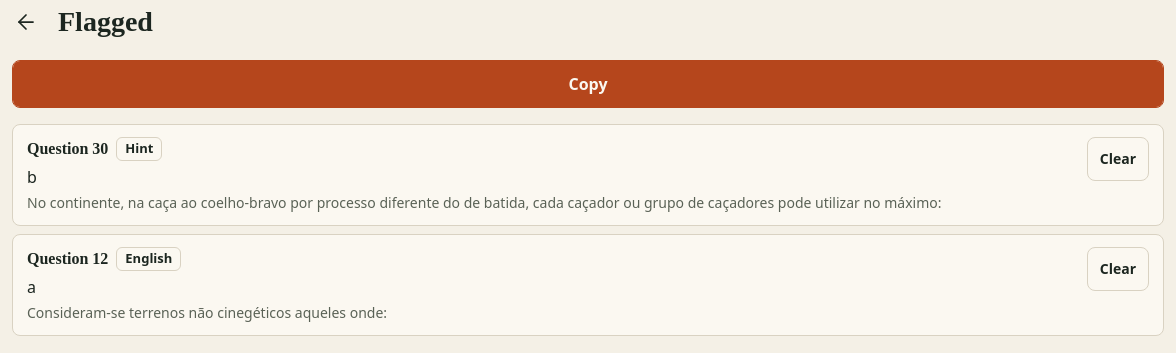
Scenario: Flagged page › clears one flag and leaves the other
Click the button "Clear" in the row of "Hint": {"x": 1118, "y": 159} [1087,137,1149,181]
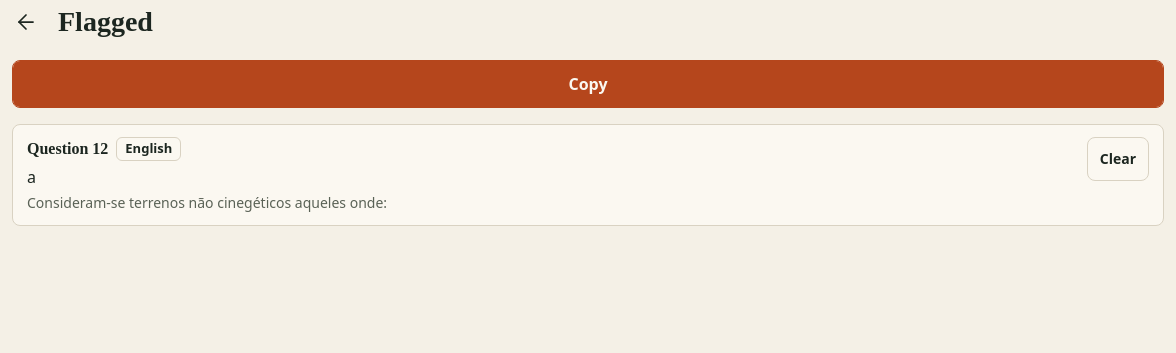
Expected: the number of list items is 1, [12,124,1164,226]
